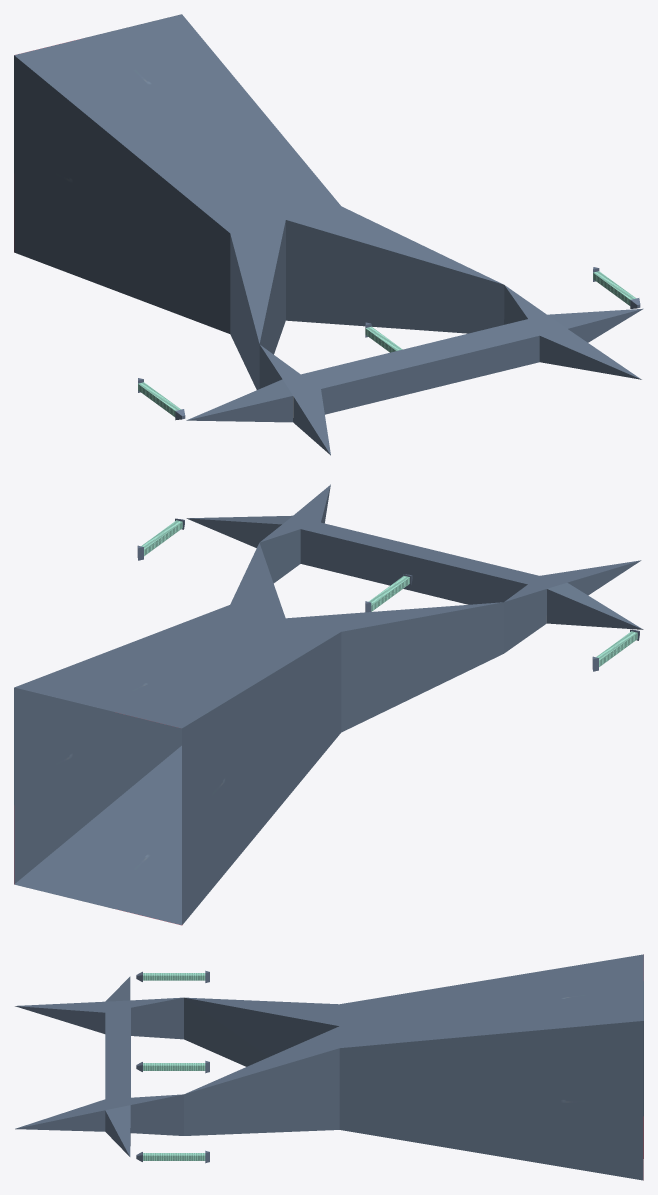
Rendered from pylon_large.obj.
The picture shows the model from 3 angles, top to bottom: view 1: azimuth 30°, elevation 25°; view 2: azimuth 150°, elevation 25°; view 3: azimuth 270°, elevation 25°; orthographic projection. The views are drawn at different scales.
Parts seen in each view (by area): view 1: Pylon_Large_150kV; view 2: Pylon_Large_150kV; view 3: Pylon_Large_150kV.
Part boxes in pixels (left/top/right/bottom): Pylon_Large_150kV: left=14, top=14, right=643, bottom=455; Pylon_Large_150kV: left=14, top=484, right=643, bottom=925; Pylon_Large_150kV: left=15, top=954, right=643, bottom=1180.
Size of the model in its own units: 27.75 by 11.27 by 40.26.
